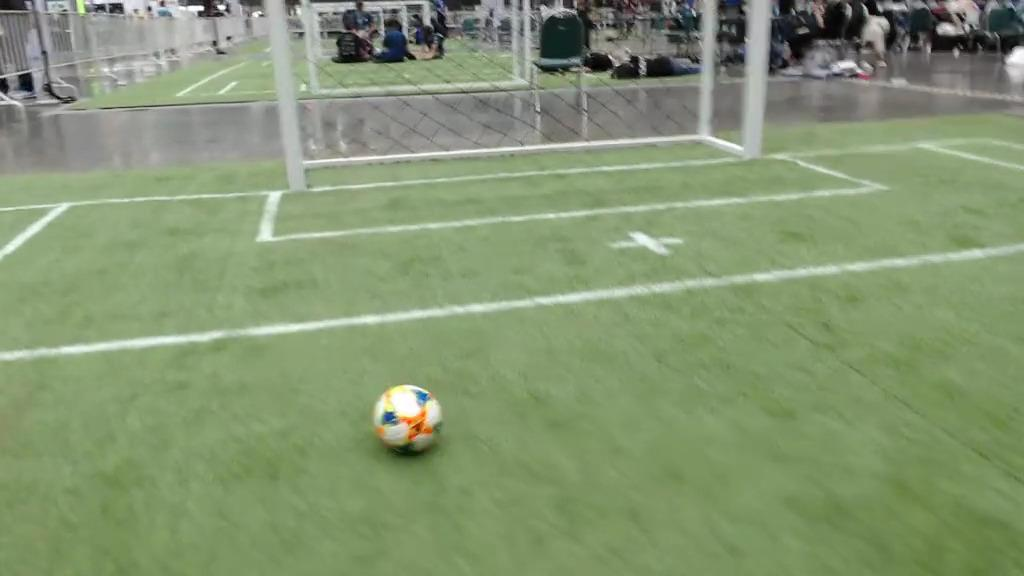ball: (377, 386, 442, 450)
